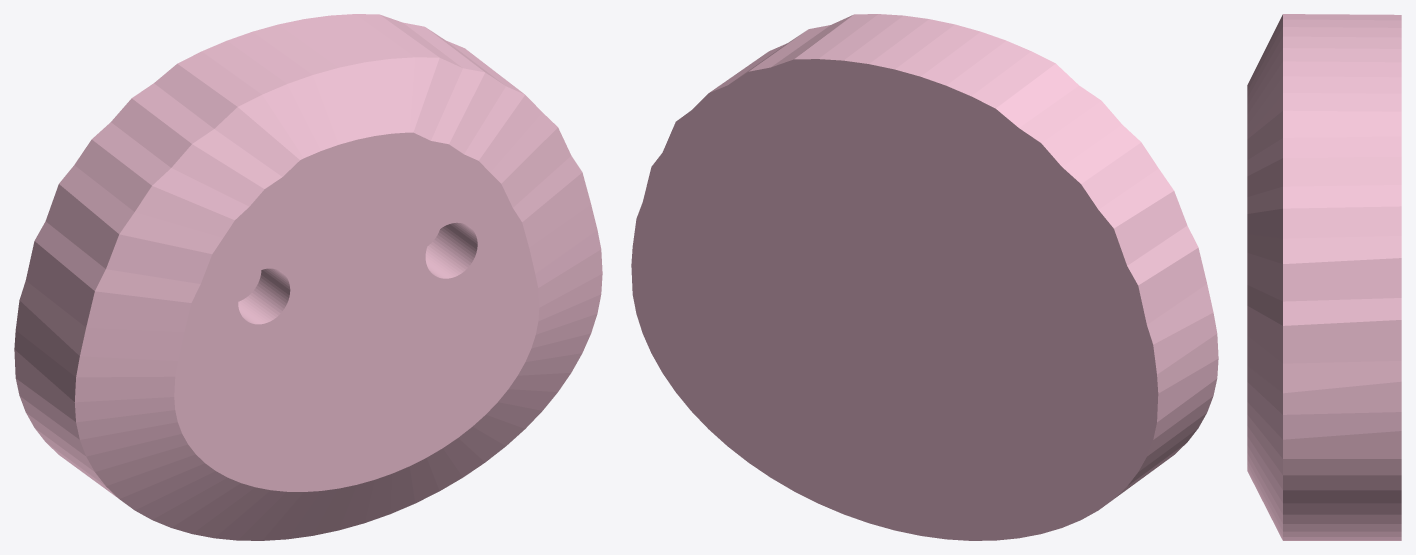
The model's file is head_08.glb.
The picture shows the model from 3 angles, left to right: view 1: azimuth 30°, elevation 25°; view 2: azimuth 150°, elevation 25°; view 3: azimuth 270°, elevation 25°; orthographic projection.
Visible parts, largest first — view 1: head_08; view 2: head_08; view 3: head_08.
Boxes of the visible parts, x1=… form: head_08: x1=14, y1=14, x2=602, y2=540; head_08: x1=631, y1=14, x2=1218, y2=540; head_08: x1=1247, y1=14, x2=1401, y2=540.
Size of the model in its own units: 1.05 by 0.8836 by 0.2717.
